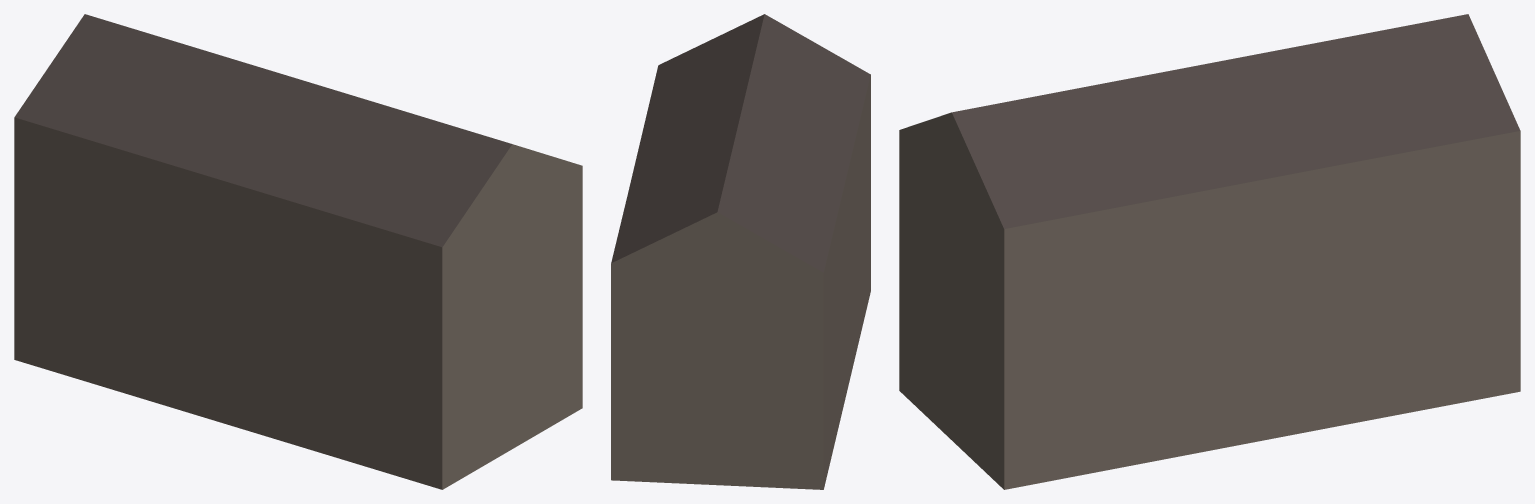
The picture shows the model from 3 angles, left to right: view 1: azimuth 30°, elevation 25°; view 2: azimuth 150°, elevation 25°; view 3: azimuth 270°, elevation 25°; orthographic projection. The views are drawn at different scales.
Parts seen in each view (by area): view 1: HP-w1198847858; view 2: HP-w1198847858; view 3: HP-w1198847858.
Part boxes in pixels (<box>): HP-w1198847858: <box>14,14,582,489</box>; HP-w1198847858: <box>611,14,870,489</box>; HP-w1198847858: <box>899,14,1520,489</box>.
Size of the model in its own units: 9.75 by 7.55 by 12.95.
